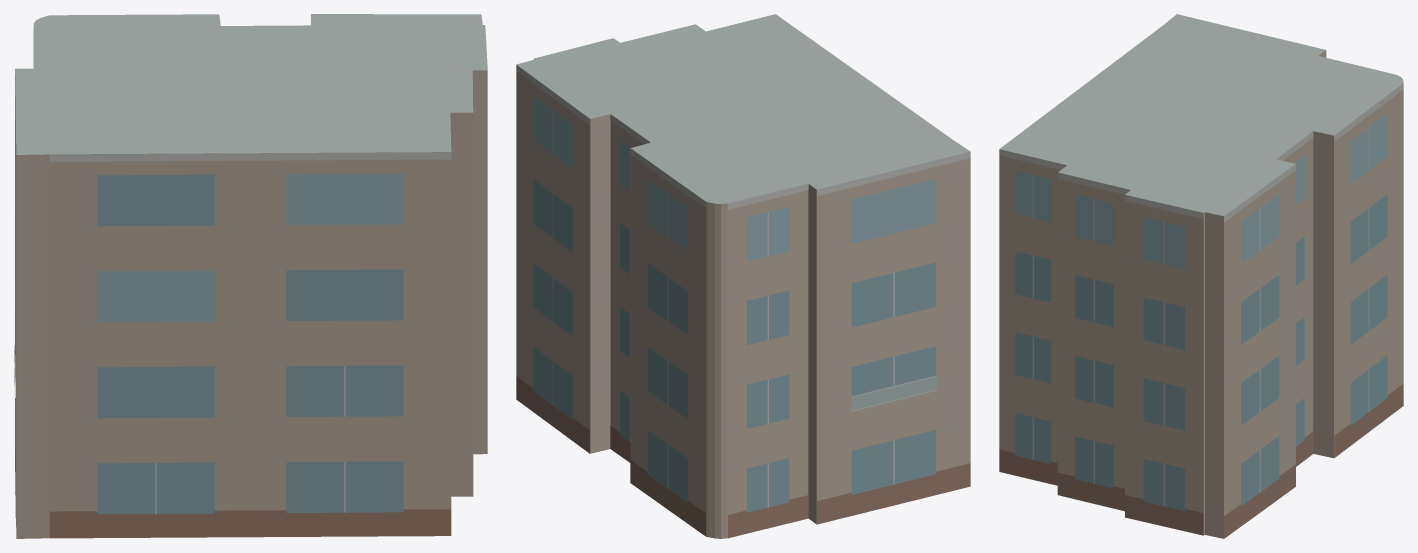
Rendered from survey-upis-32987286.glb.
3 views of the same model, side by side, from view 1: azimuth 30°, elevation 25°; view 2: azimuth 150°, elevation 25°; view 3: azimuth 270°, elevation 25° (orthographic). The views are drawn at different scales.
Visible parts, largest first — view 1: survey-upis-32987286.tmp; view 2: survey-upis-32987286.tmp; view 3: survey-upis-32987286.tmp.
Part boxes in pixels (x1,y1,x2,y2): survey-upis-32987286.tmp: [14, 14, 487, 538]; survey-upis-32987286.tmp: [516, 14, 970, 538]; survey-upis-32987286.tmp: [999, 14, 1403, 538].
Bounding box in the file's own units: 16.82 × 12.51 × 14.22.
